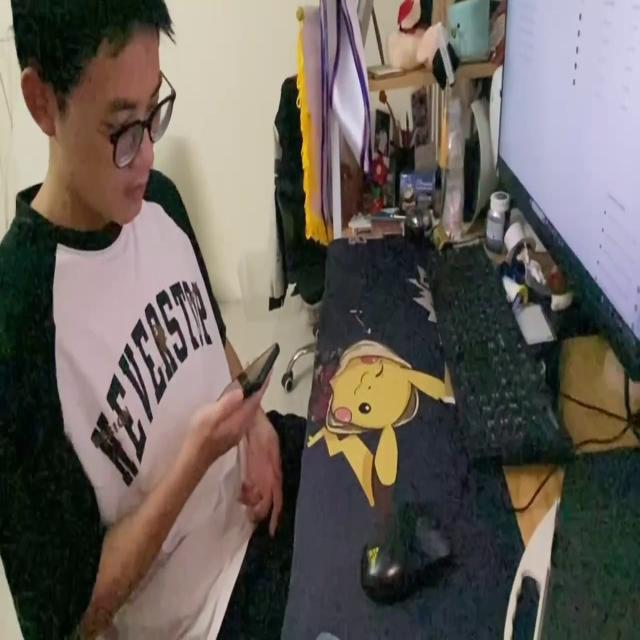laptop: (495, 0, 640, 390)
phone: (206, 339, 280, 407)
student: (0, 1, 294, 640)
